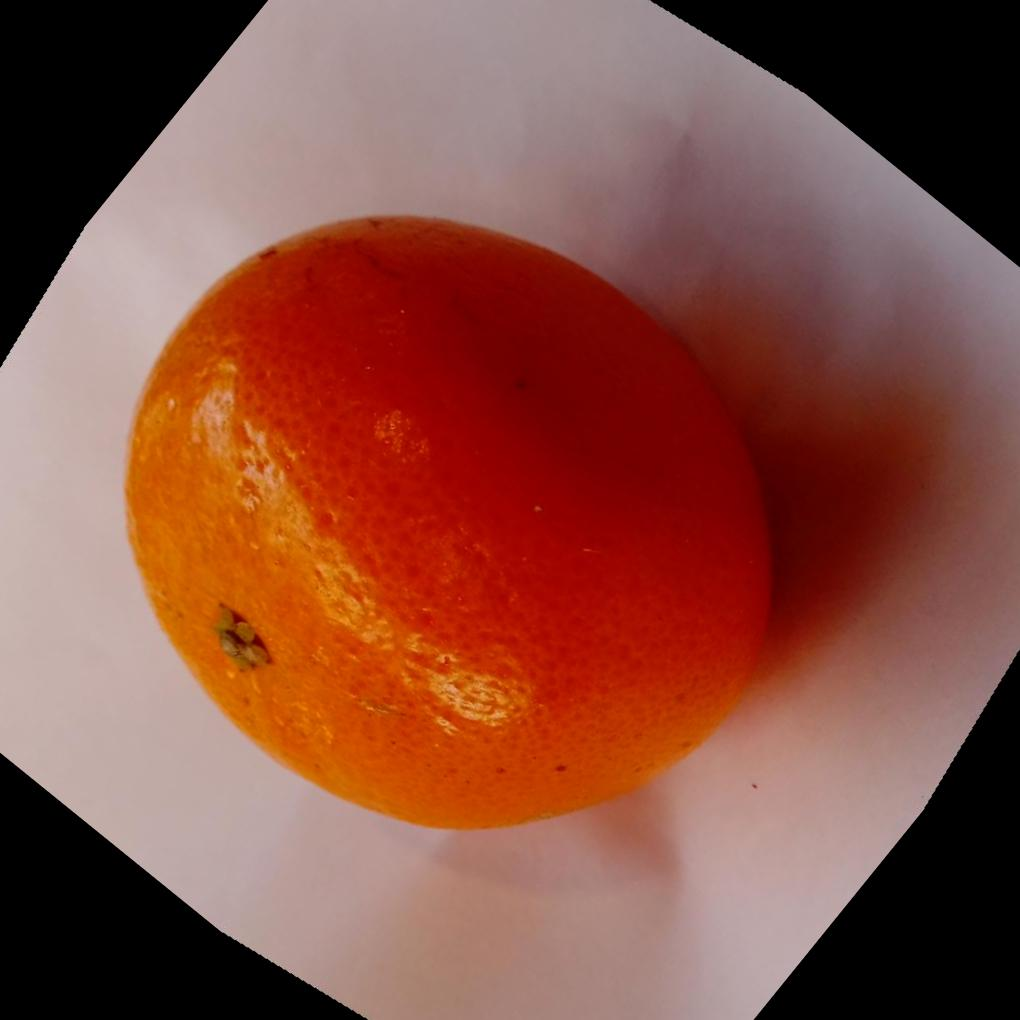FreshGuava: (122, 209, 778, 830)
